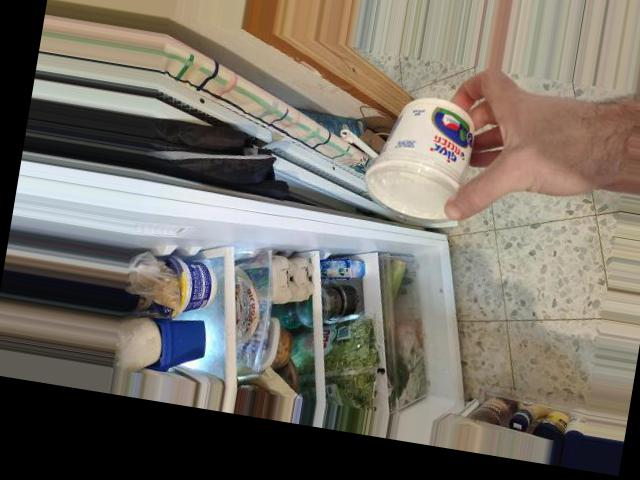cotage: (363, 84, 491, 223)
